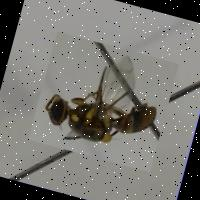Oriental-fruit-fly: (27, 31, 178, 172)
